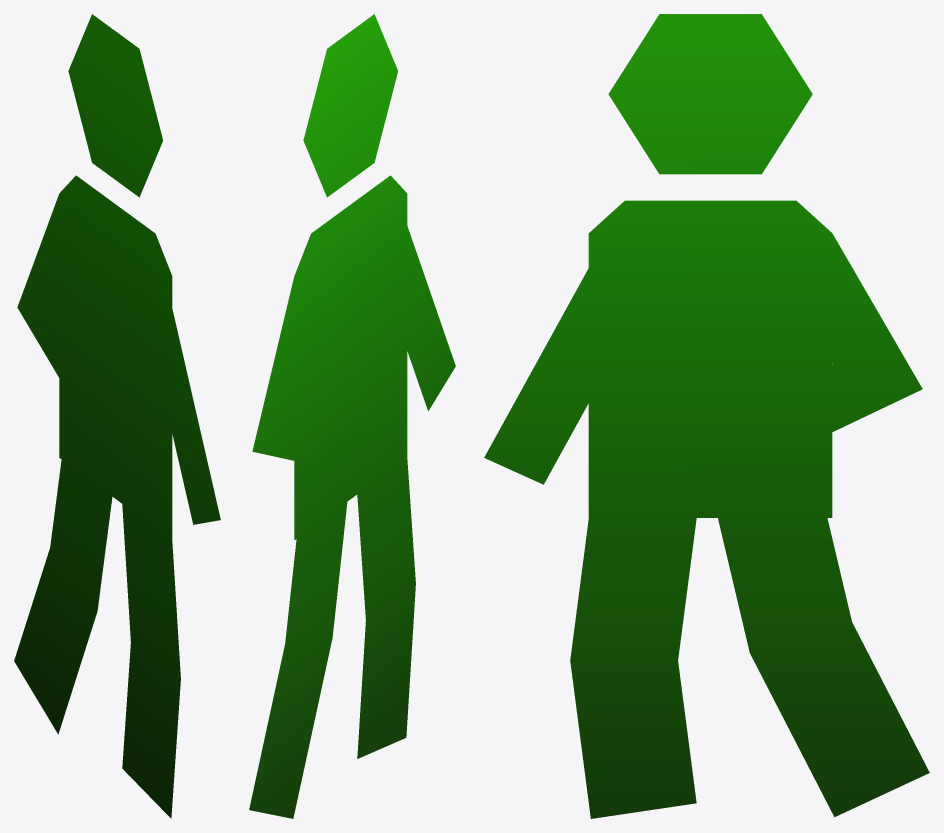
File: Light_Green_3A.fbx
3 renders of one model, left to right at view 1: azimuth 30°, elevation 25°; view 2: azimuth 150°, elevation 25°; view 3: azimuth 270°, elevation 25°, orthographic. The views are drawn at different scales.
Parts seen in each view (by area): view 1: Light_Green_3A; view 2: Light_Green_3A; view 3: Light_Green_3A.
Part boxes in pixels (x1,y1,x2,y2): Light_Green_3A: (14,14,220,818); Light_Green_3A: (249,14,455,818); Light_Green_3A: (484,14,929,818).
Size of the model in its own units: 7.63e-06 by 25.42 by 12.76.
